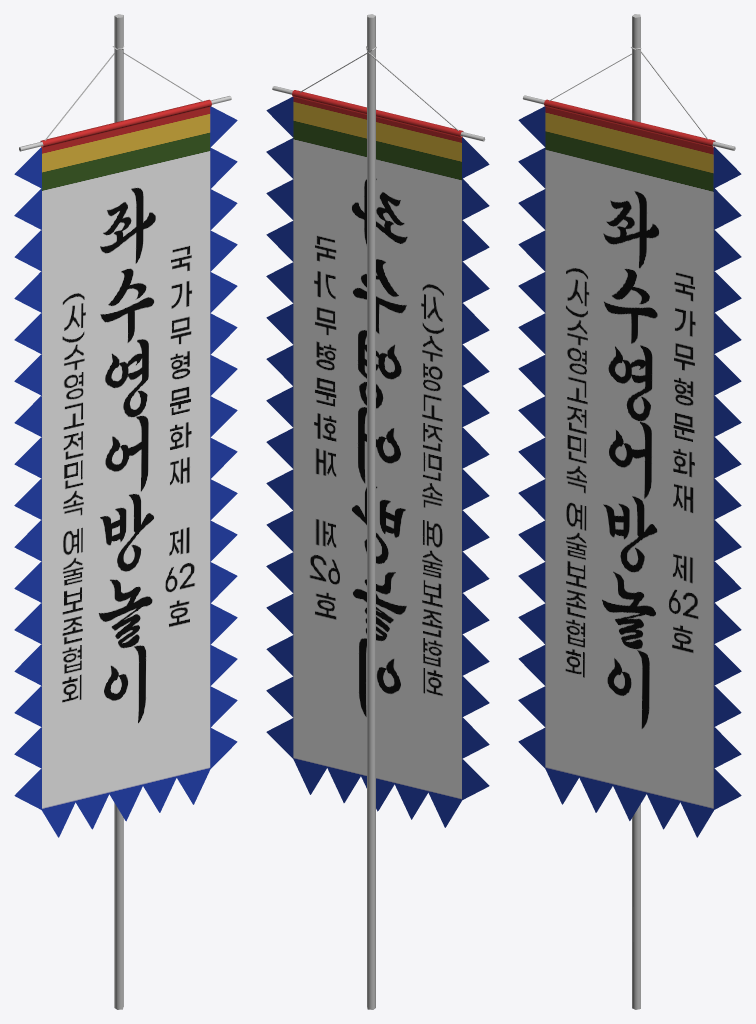
File: 어방깃발.fbx
The picture shows the model from 3 angles, left to right: view 1: azimuth 30°, elevation 25°; view 2: azimuth 150°, elevation 25°; view 3: azimuth 330°, elevation 25°; orthographic projection.
Visible parts, largest first — view 1: Cylinder003, Cylinder001; view 2: Cylinder003, Cylinder001; view 3: Cylinder003, Cylinder001.
Boxes of the visible parts, box(x1,y1,x2,y2) form: Cylinder003: box(14, 99, 237, 837); Cylinder001: box(114, 14, 123, 1009); Cylinder003: box(266, 90, 489, 827); Cylinder001: box(367, 14, 375, 1009); Cylinder003: box(518, 99, 741, 837); Cylinder001: box(632, 14, 640, 1009).
Bounding box in the file's own units: 106 × 9.38 × 450.
